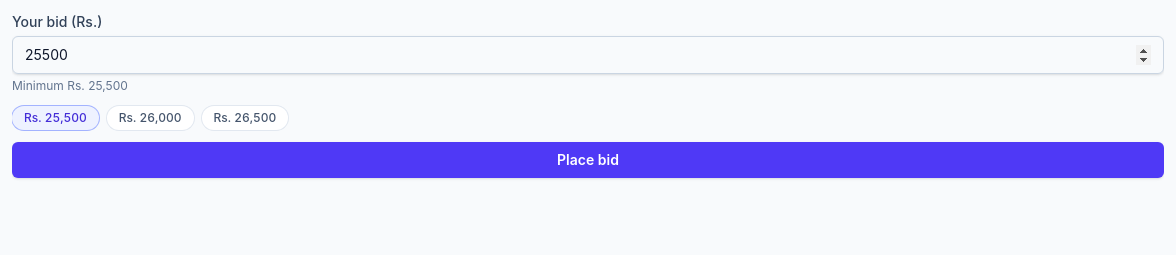
Test case: <BidForm> › tells the bidder when the auction has ended
The width and height of the screenshot is (1176, 255).
Click the button "Place bid": (588, 160) [12,142,1164,178]
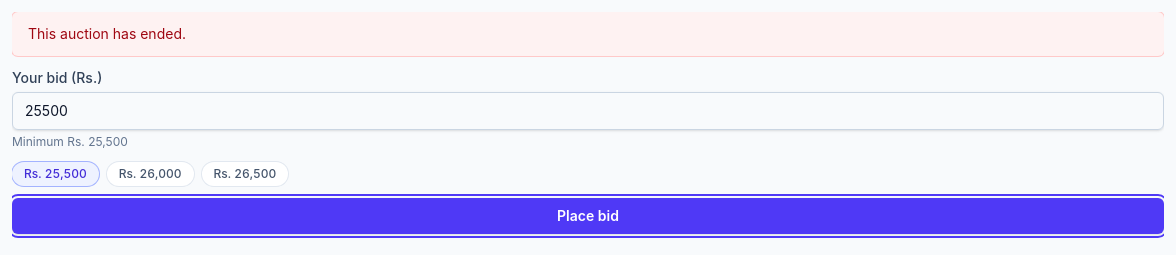
Expected: the text "This auction has ended." is shown, [12,12,1164,56]
